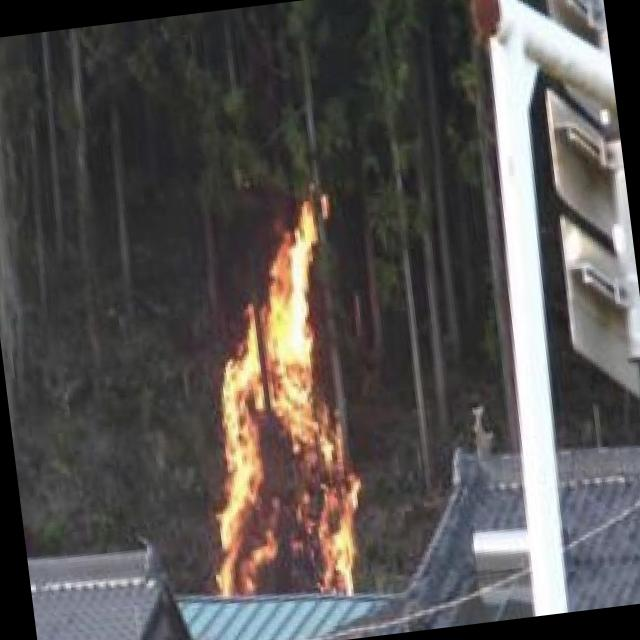Fire: (176, 192, 376, 608)
